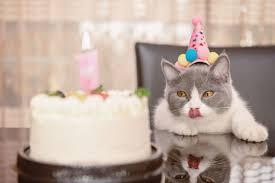animals: (151, 19, 272, 147)
